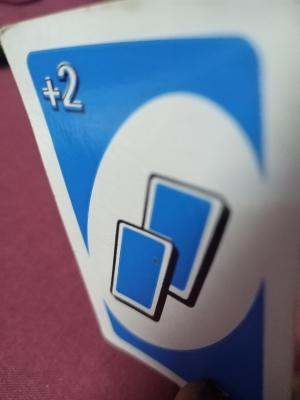-2: (34, 57, 93, 118)
blue: (62, 34, 279, 306)
